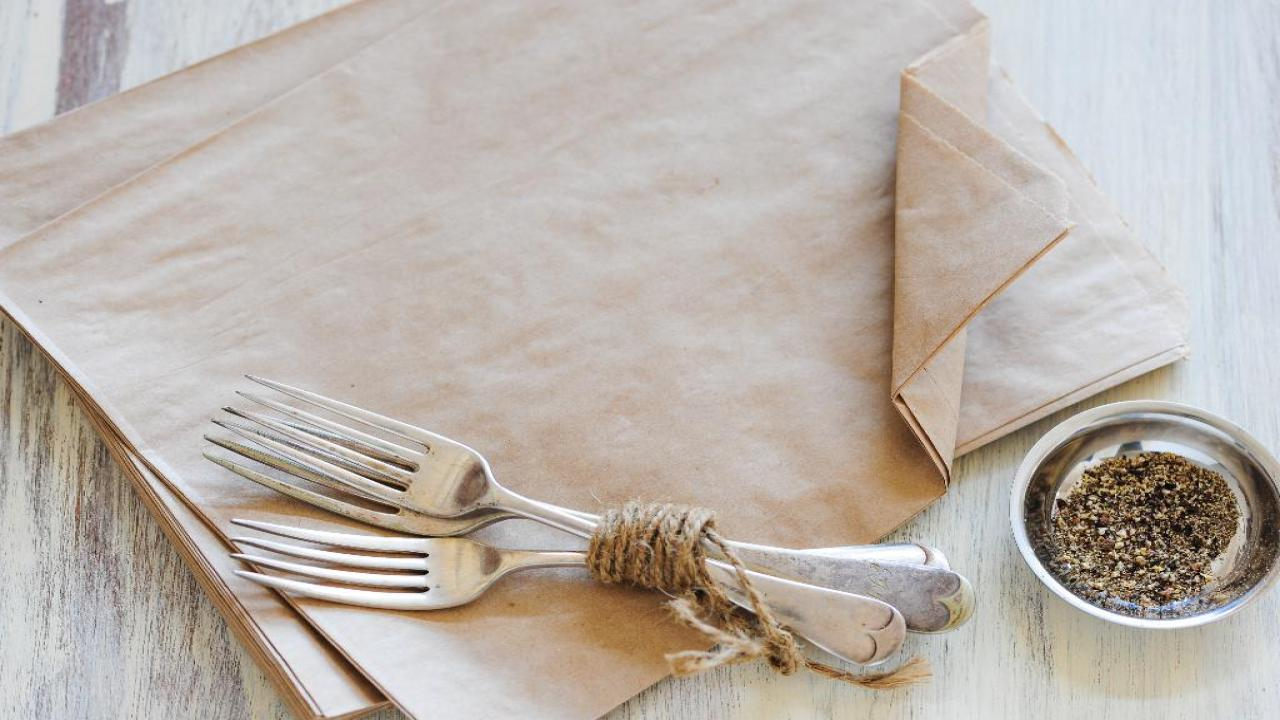fork: (204, 374, 904, 663), (228, 517, 956, 615)
